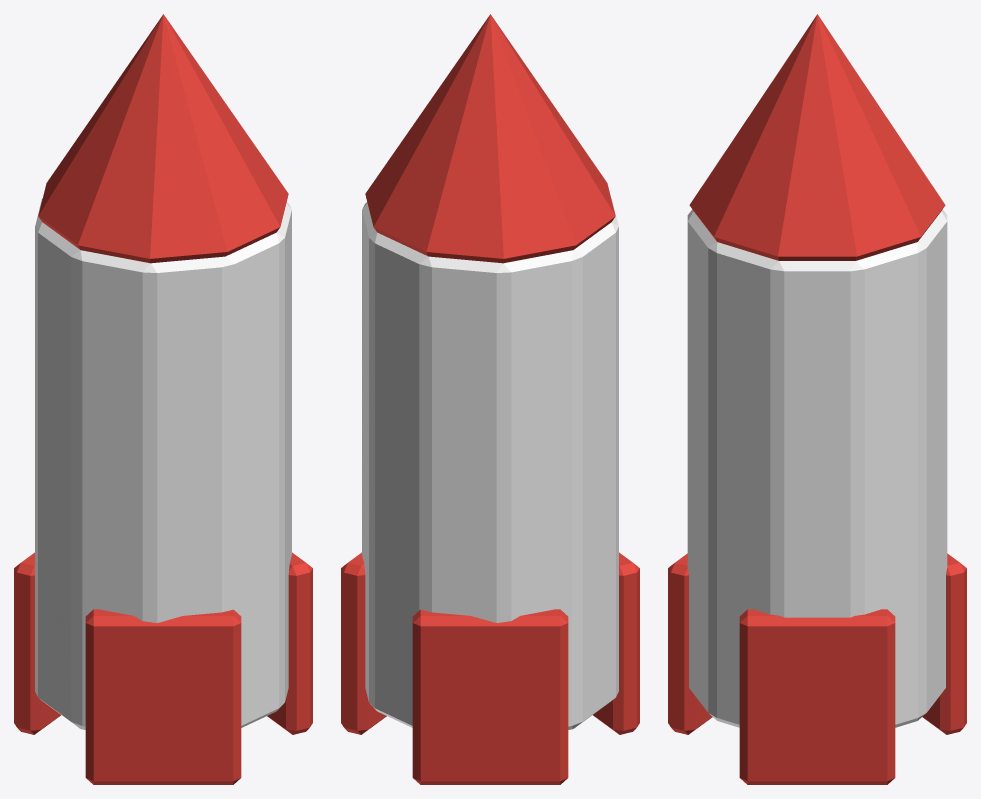
File: toy_rocket.glb
3 renders of one model, left to right at view 1: azimuth 30°, elevation 25°; view 2: azimuth 150°, elevation 25°; view 3: azimuth 270°, elevation 25°, orthographic.
Visible parts, largest first — view 1: toy_rocket; view 2: toy_rocket; view 3: toy_rocket.
Boxes of the visible parts, left/top/right/bottom form: toy_rocket: left=14, top=14, right=312, bottom=784; toy_rocket: left=341, top=14, right=639, bottom=784; toy_rocket: left=668, top=14, right=966, bottom=784.
Bounding box in the file's own units: 0.1683 × 0.51 × 0.1922.
